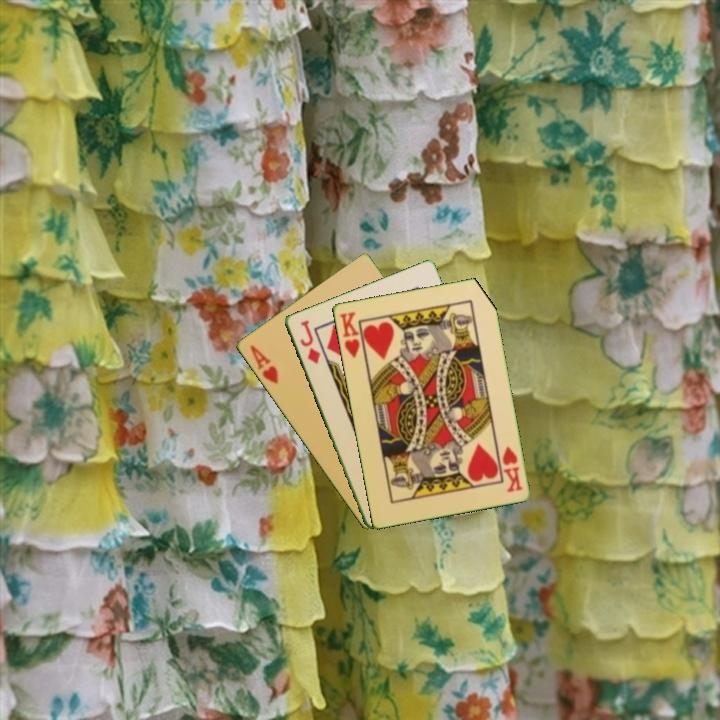Ah: (246, 341, 281, 387)
Jd: (296, 316, 323, 367)
Kh: (336, 308, 367, 362), (498, 442, 525, 495)
